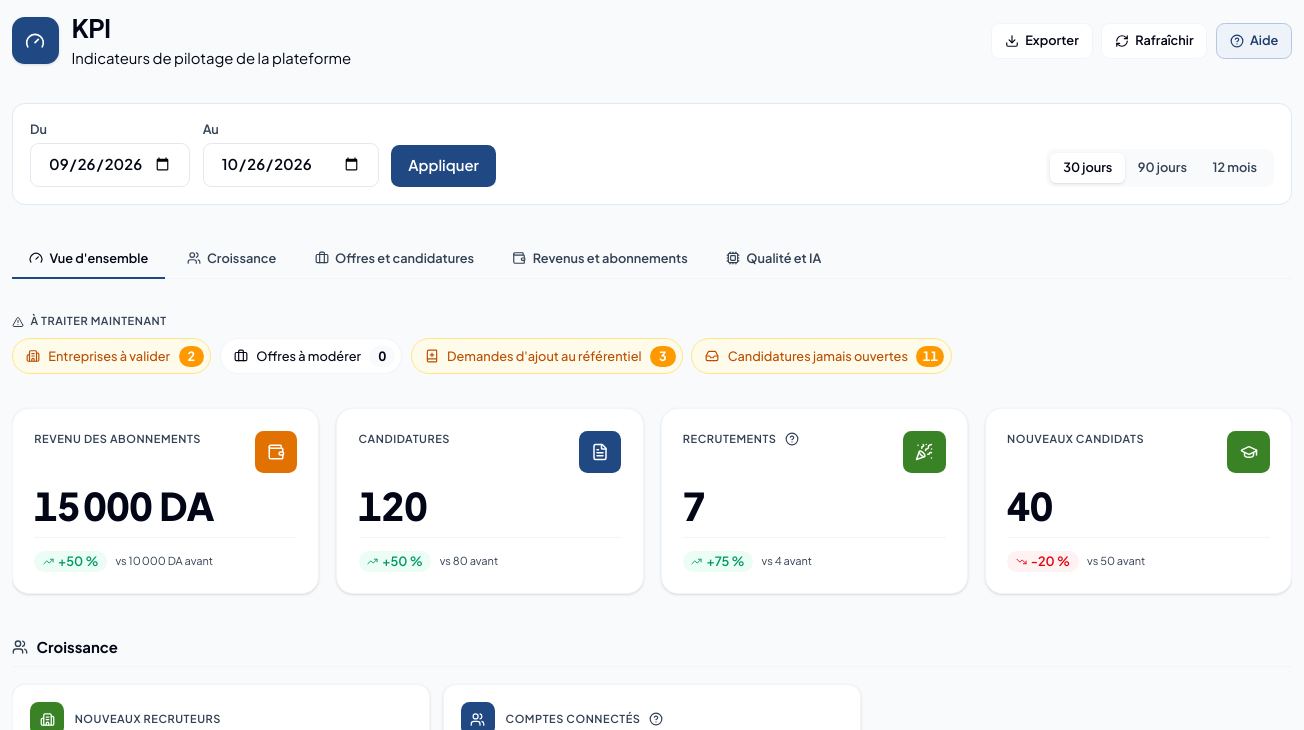
Scenario: 📈 UI & Logique - Composant <AdminKpi /> › affiche répartitions, classement, entonnoir et une courbe par unité
Click the tab "Offres et candidatures": (394, 259) [298,239,491,279]
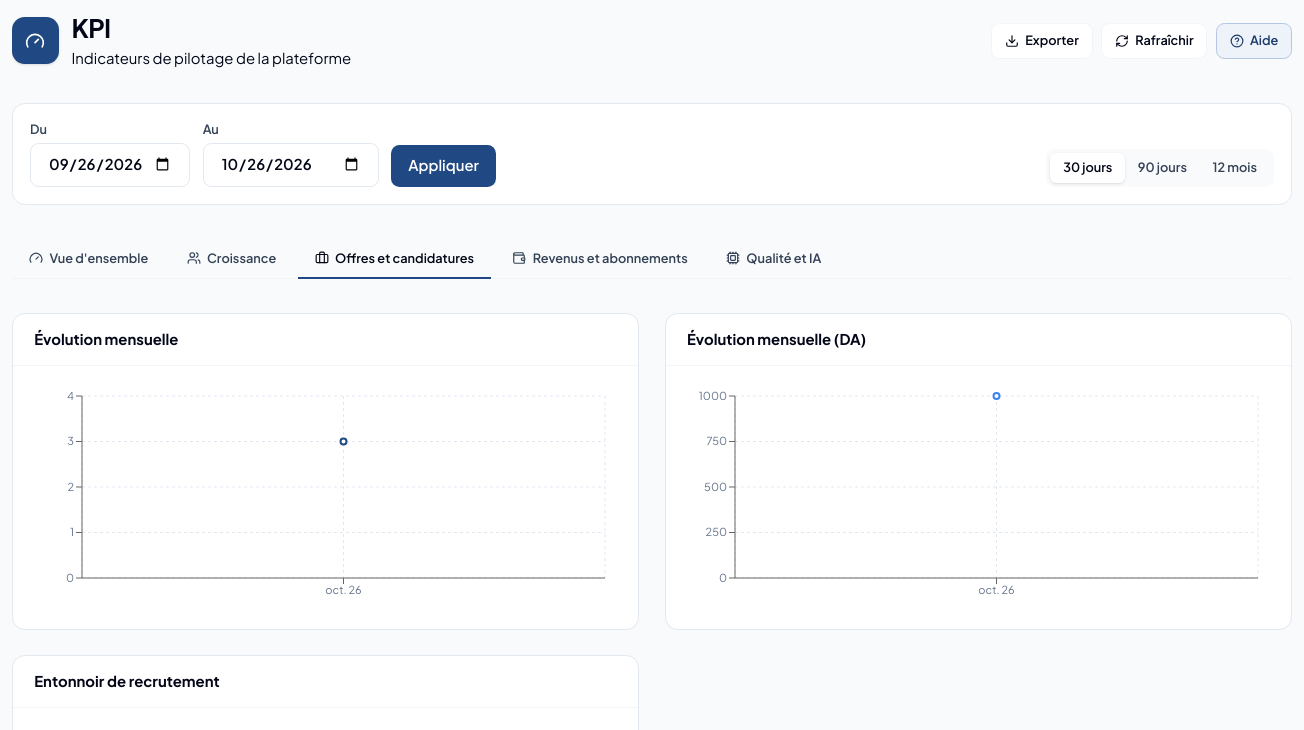
Result: the heading "Entonnoir de recrutement" is shown at [34,672,220,690]
Result: the heading "Évolution mensuelle" is shown at [34,330,178,348]
Result: the heading "Évolution mensuelle (DA)" is shown at [687,330,866,348]
